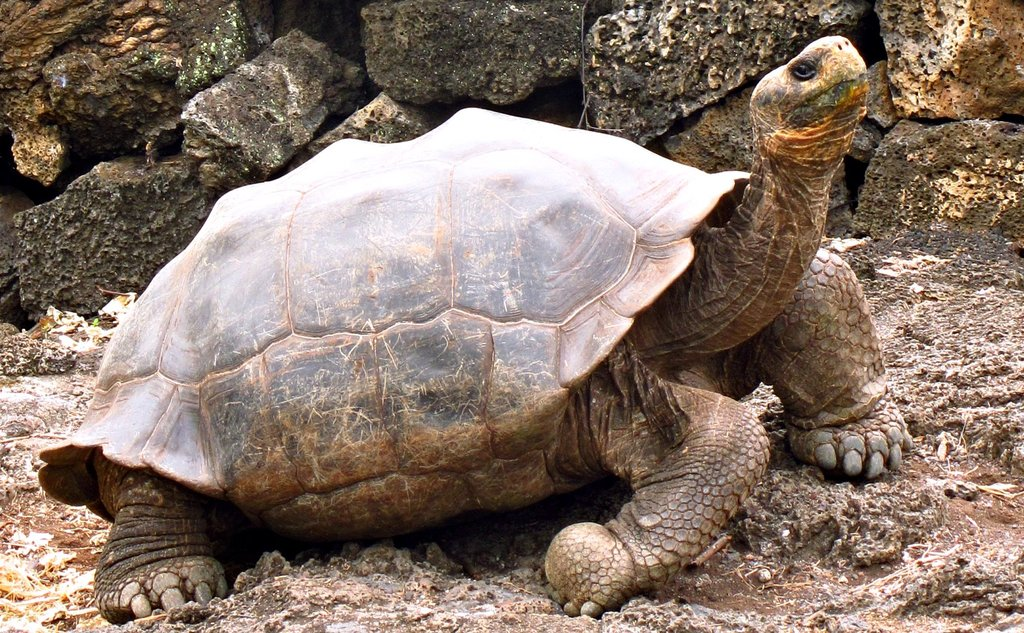Sea turtles: (31, 33, 912, 625)
